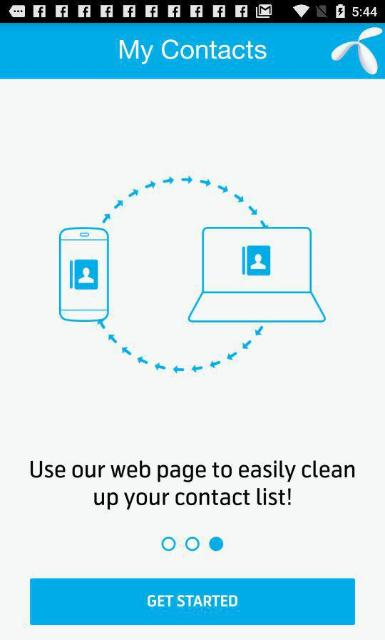Image: (59, 174, 327, 373), (330, 27, 382, 75)
PageIndicator: (162, 536, 224, 550)
Text: (30, 458, 354, 509), (118, 38, 268, 66), (147, 596, 237, 606)
TextButton: (30, 578, 355, 624)
Toolbar: (0, 23, 385, 79)
UpperTaskBar: (0, 0, 385, 22)
